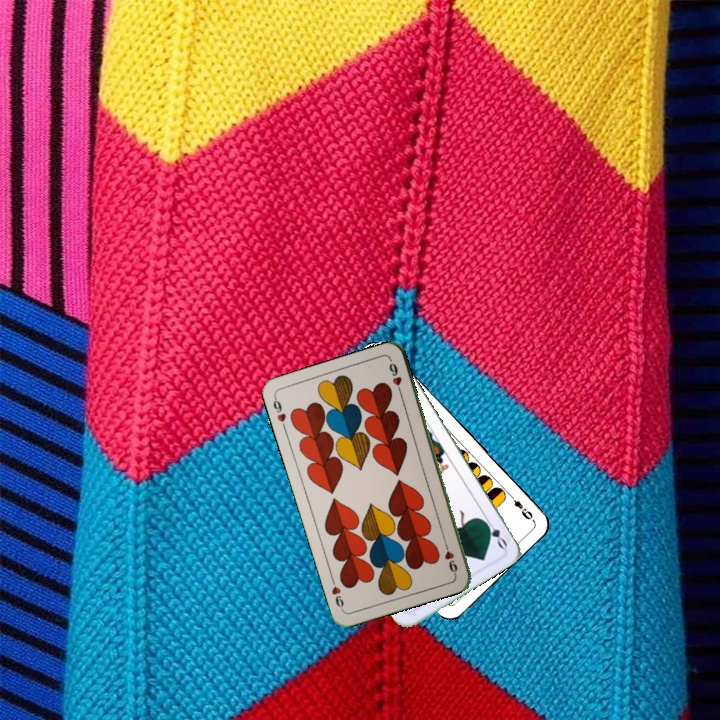E9: (505, 490, 535, 522)
GO: (479, 514, 510, 551)
H9: (440, 537, 460, 577), (269, 393, 289, 432)
